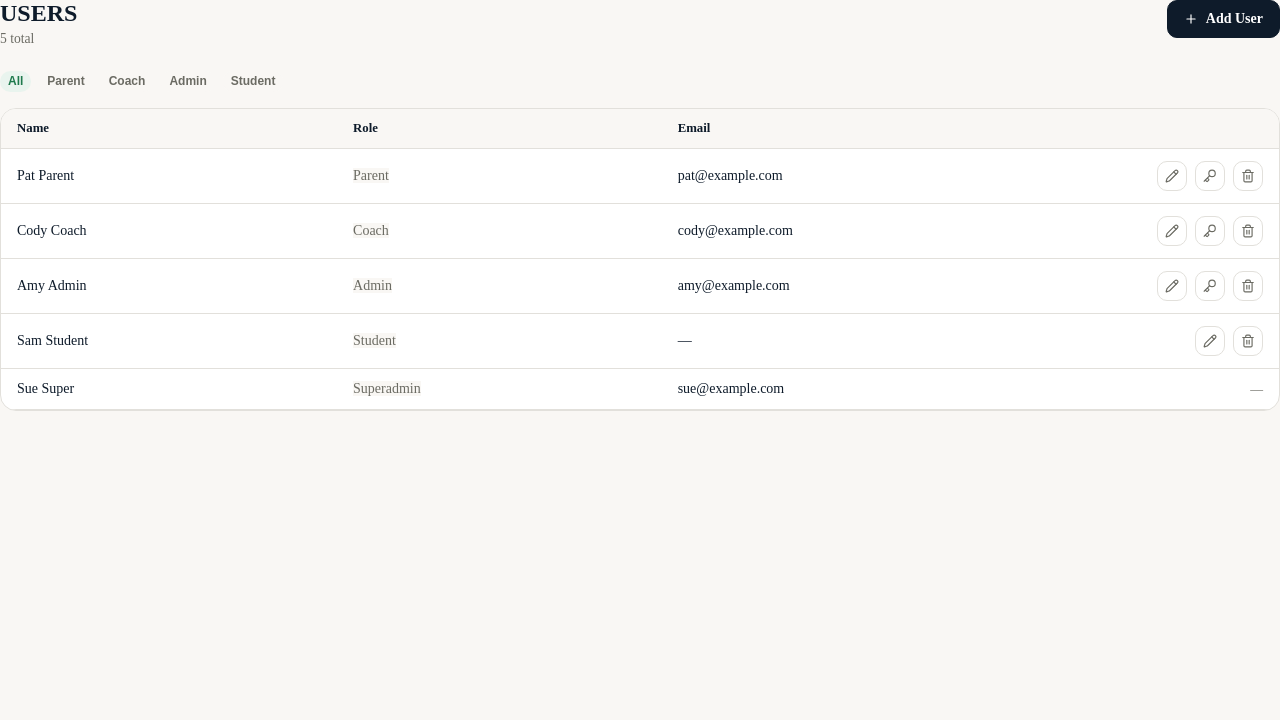
UsersPage › Create › shows the parent picker and skill level, and no password, when role is student
Expected: the text "Pat Parent" is shown, [1,148,337,203]
Click the button "Add User" at (1223, 19), box [1167,0,1279,38]
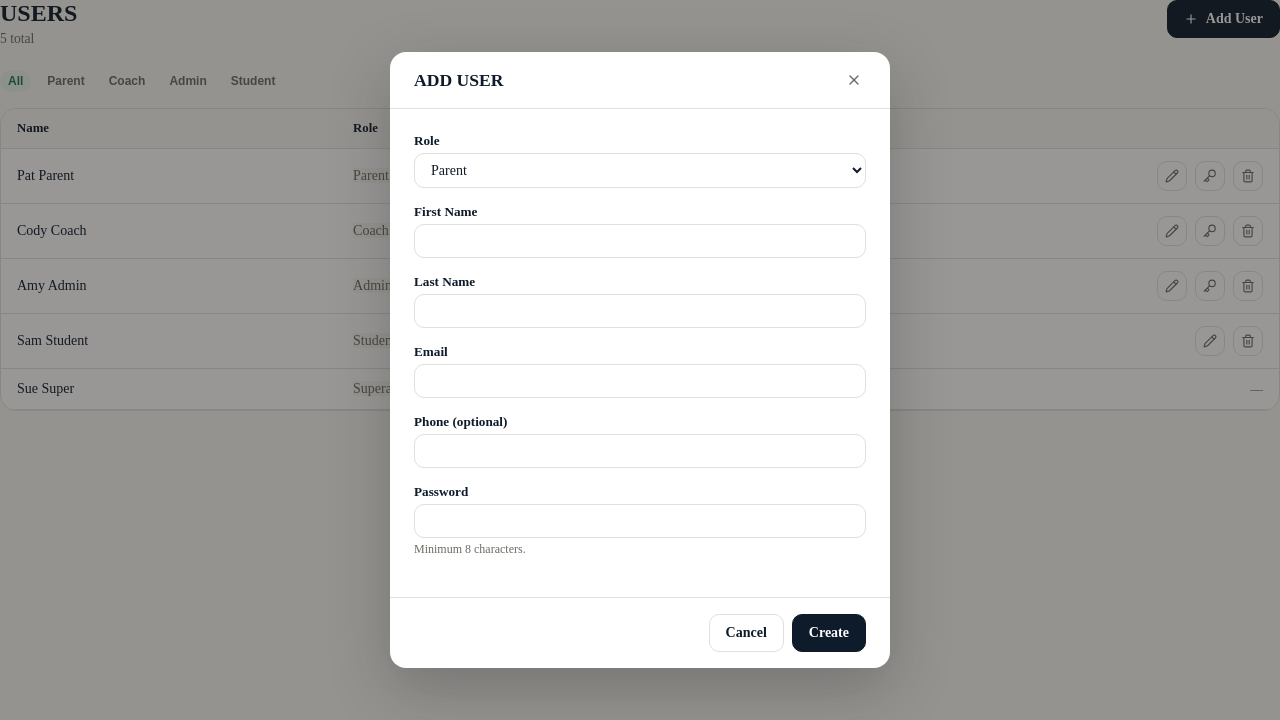
Select "Student" in the dropdown labelled "Role" at (640, 171), box [414,153,866,188]
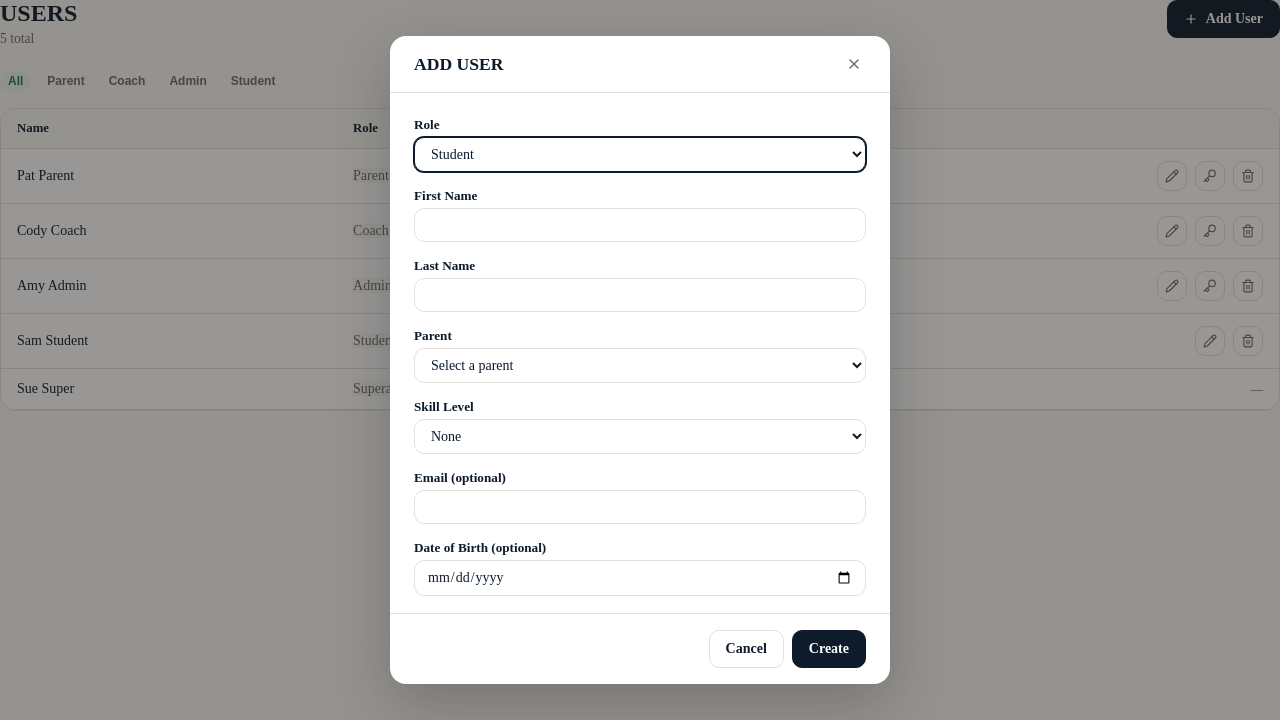
Expected: the field labelled "Email (optional)" is shown, [414,490,866,524]
Expected: the dropdown labelled "Parent" is shown, [414,348,866,383]
Expected: the dropdown labelled "Skill Level" is shown, [414,419,866,454]
